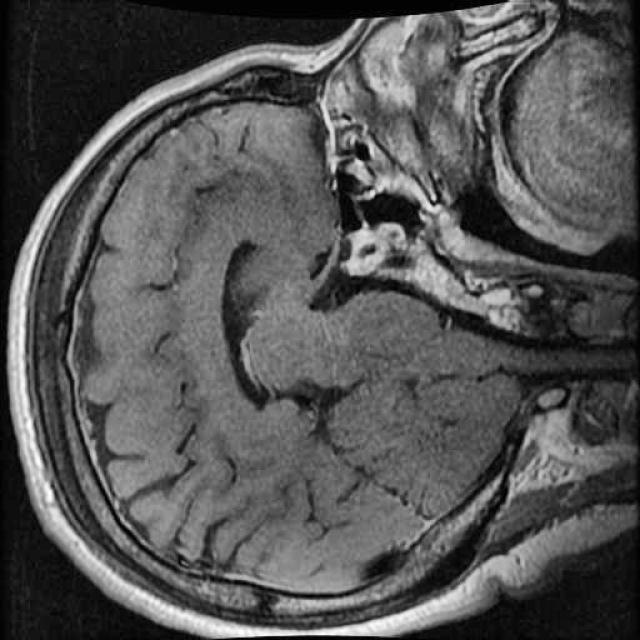Tumor: (331, 209, 414, 281)
